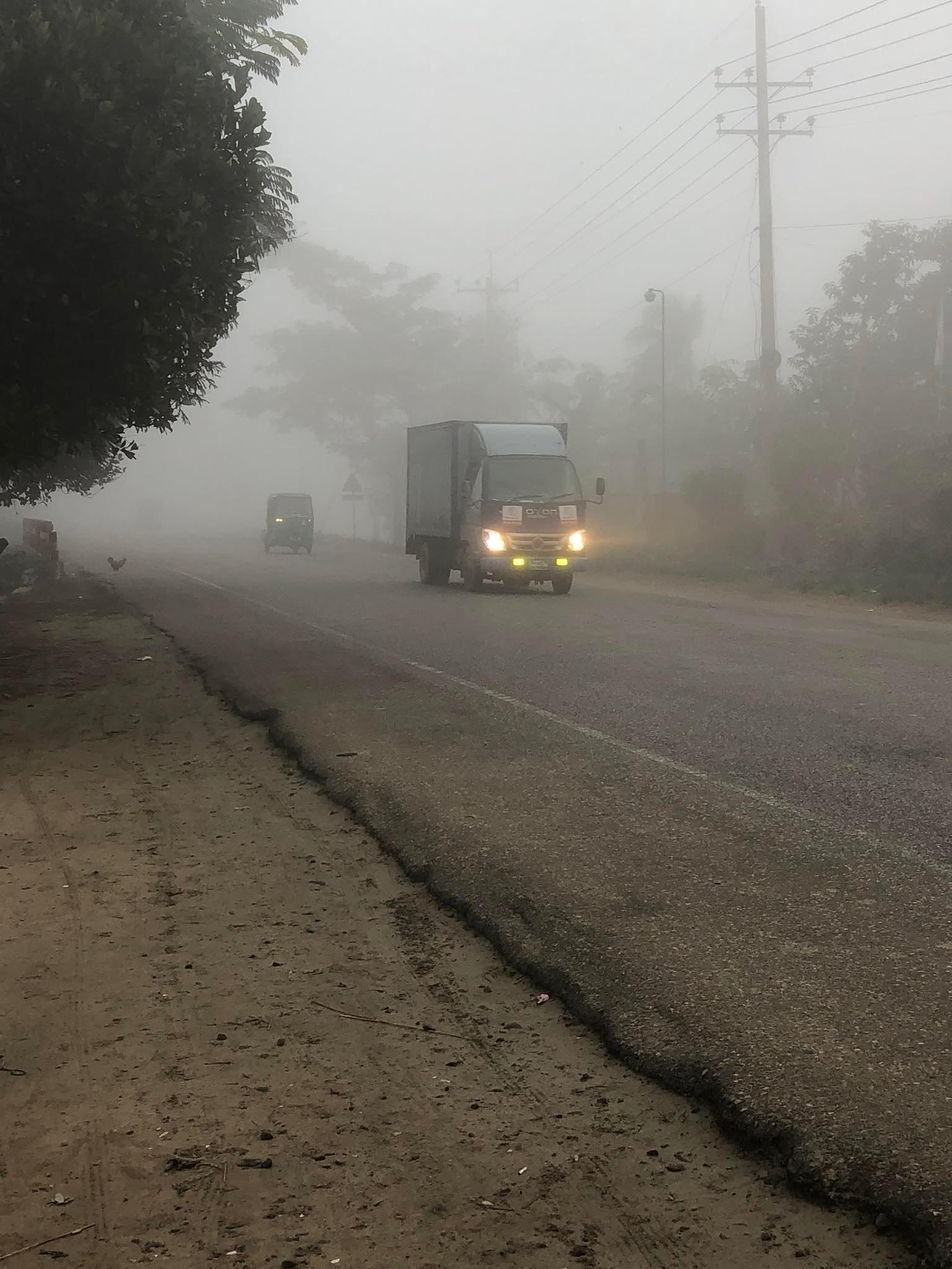Truck: (389, 402, 626, 605)
